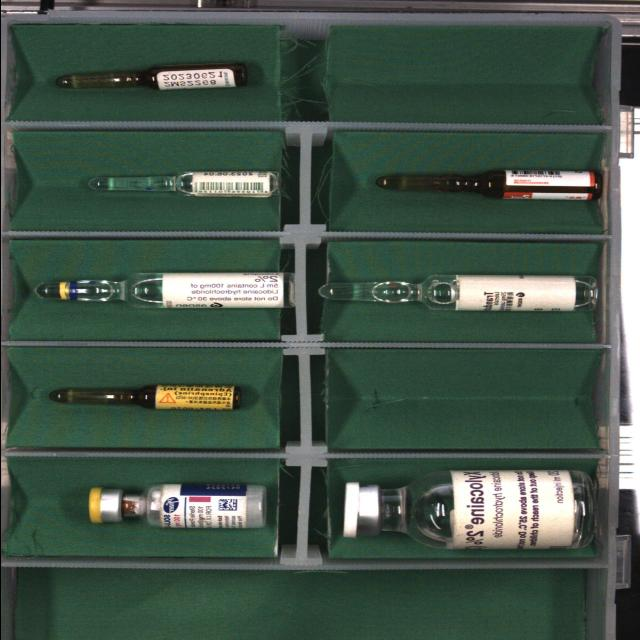Vials: (341, 470, 592, 549), (87, 484, 265, 528)
